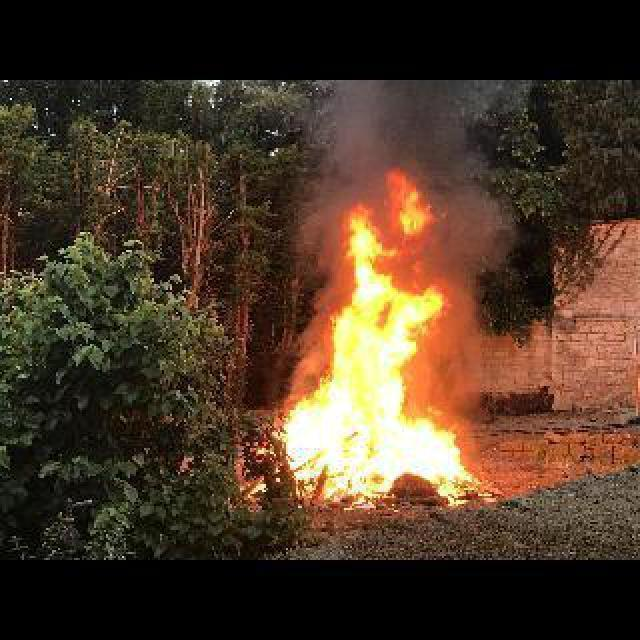Fire: (272, 186, 483, 504)
Smoke: (310, 78, 494, 178)
